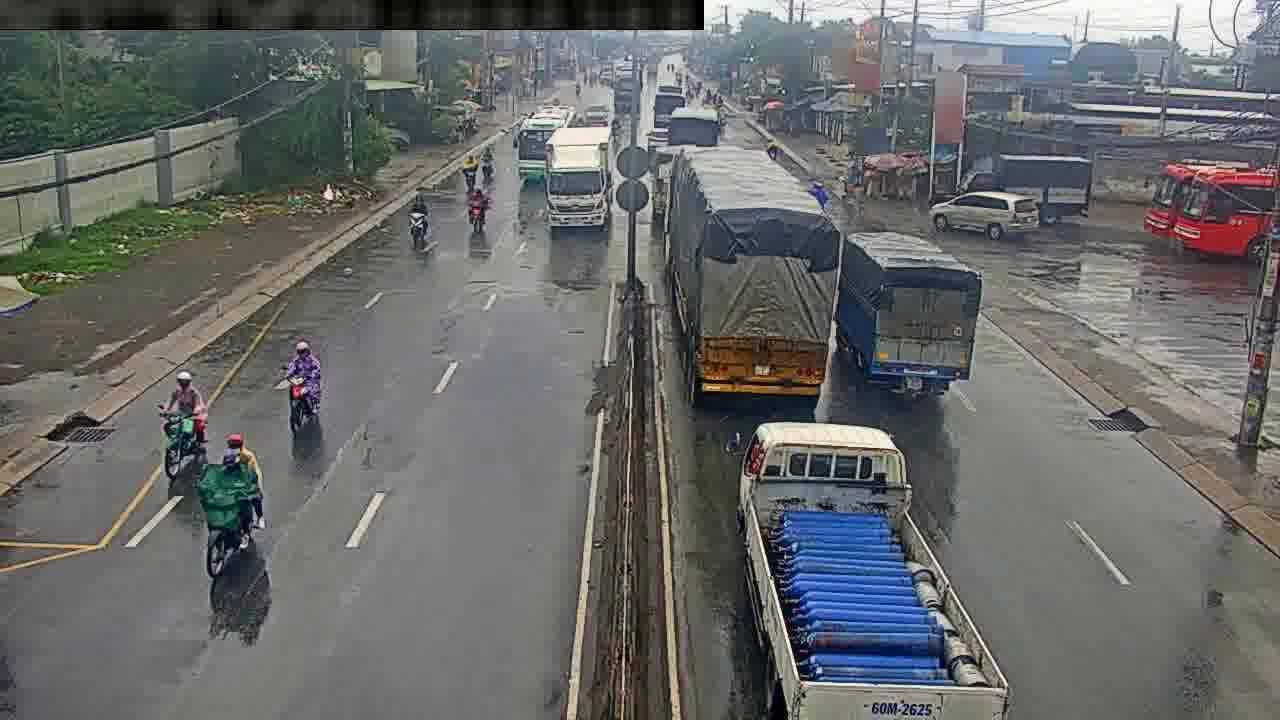14: (518, 106, 561, 181)
8: (738, 421, 1015, 720), (669, 143, 849, 405), (829, 236, 985, 401), (542, 139, 610, 227)
motorbike: (201, 441, 265, 583), (161, 376, 208, 490), (283, 334, 325, 433), (408, 193, 433, 252), (466, 186, 488, 246), (811, 178, 833, 206)
